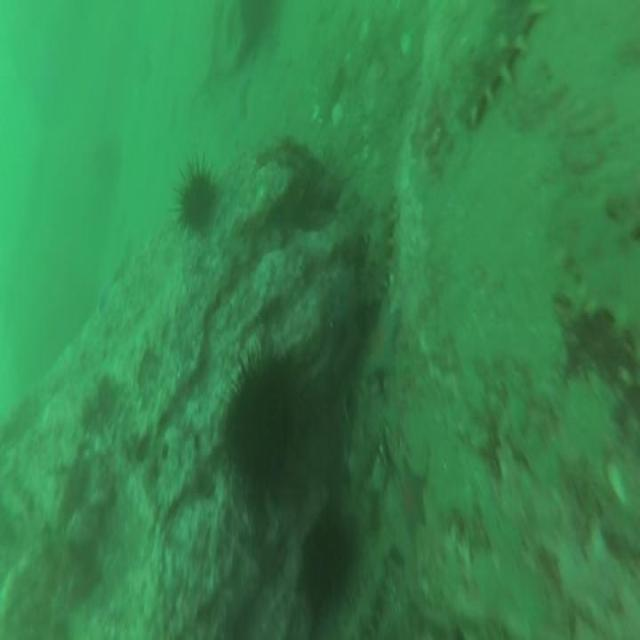echinus: (218, 341, 298, 485), (294, 506, 348, 613), (167, 155, 222, 242)
holothurian: (448, 0, 547, 136), (359, 167, 400, 291)
starfish: (390, 452, 432, 547), (362, 297, 402, 384)
